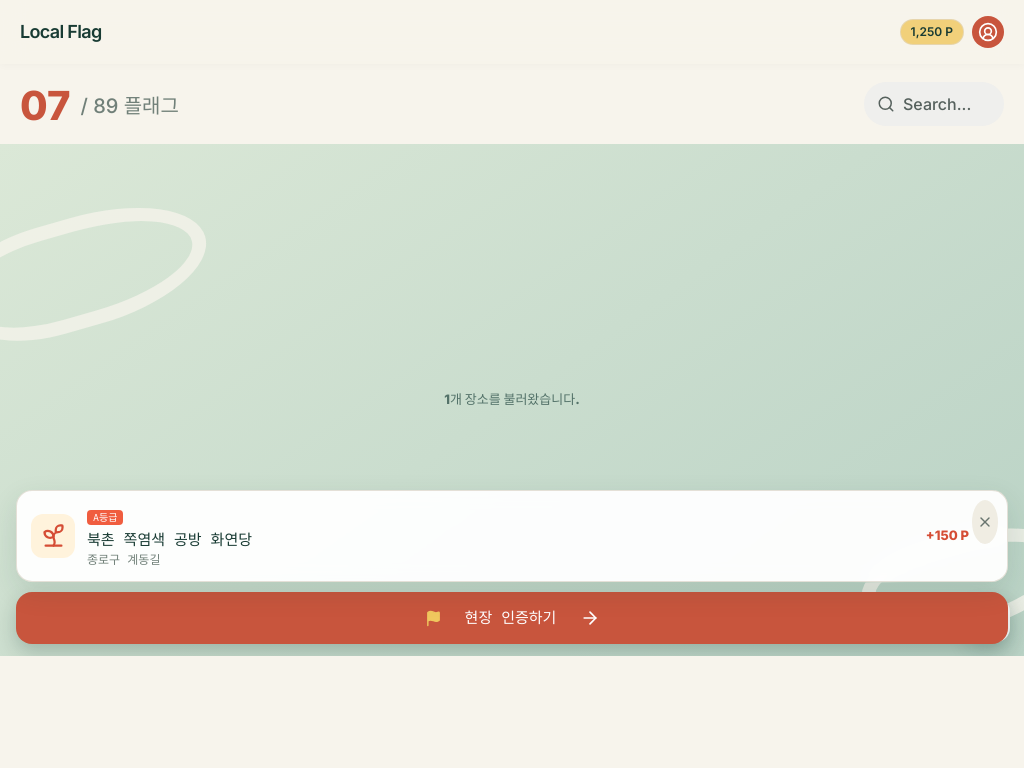
DiscoveryPage redesigned home › renders account progress and hides the place card until selected
Check: the element named "플래그 수집 현황" reads "07 / 89 플래그", box 20,81 -> 179,130
Check: the button "1,250 P" is shown, box 900,19 -> 964,45
Clicking close dismisses the selection
Click the button named "장소 선택 해제" at (985, 522), box 972,500 -> 998,544
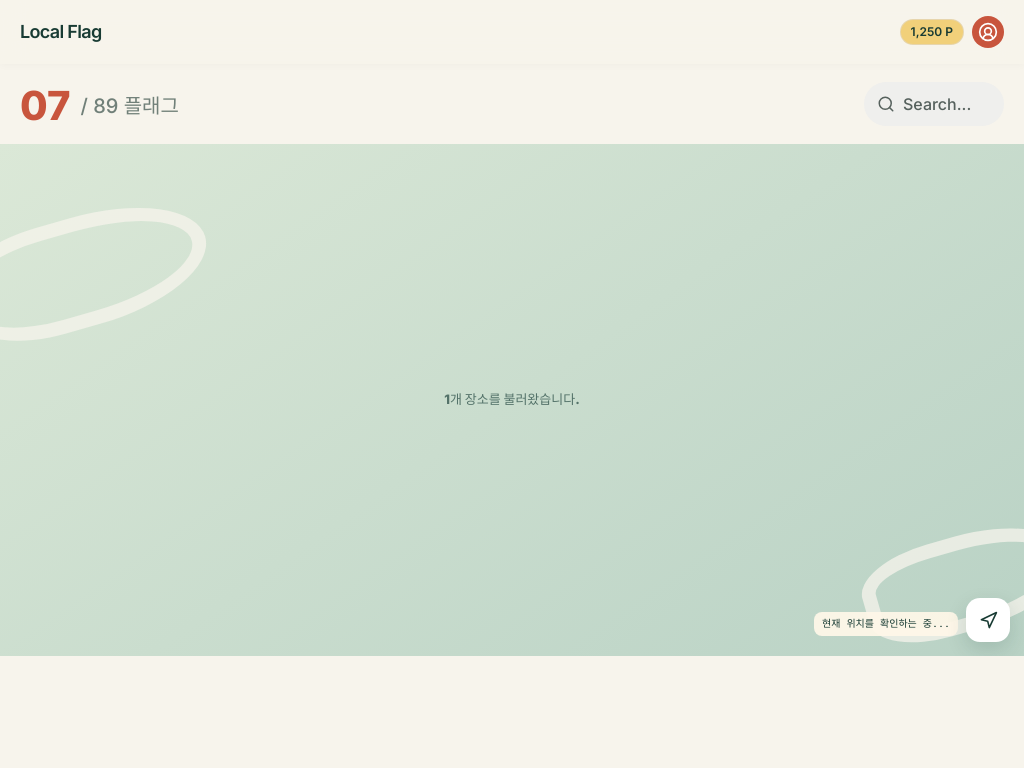
Check: the button with aria-label "장소 검색" reads "Search...", box 864,82 -> 1004,126
Check: the button "북촌 쪽염색 공방 화연당" is gone
